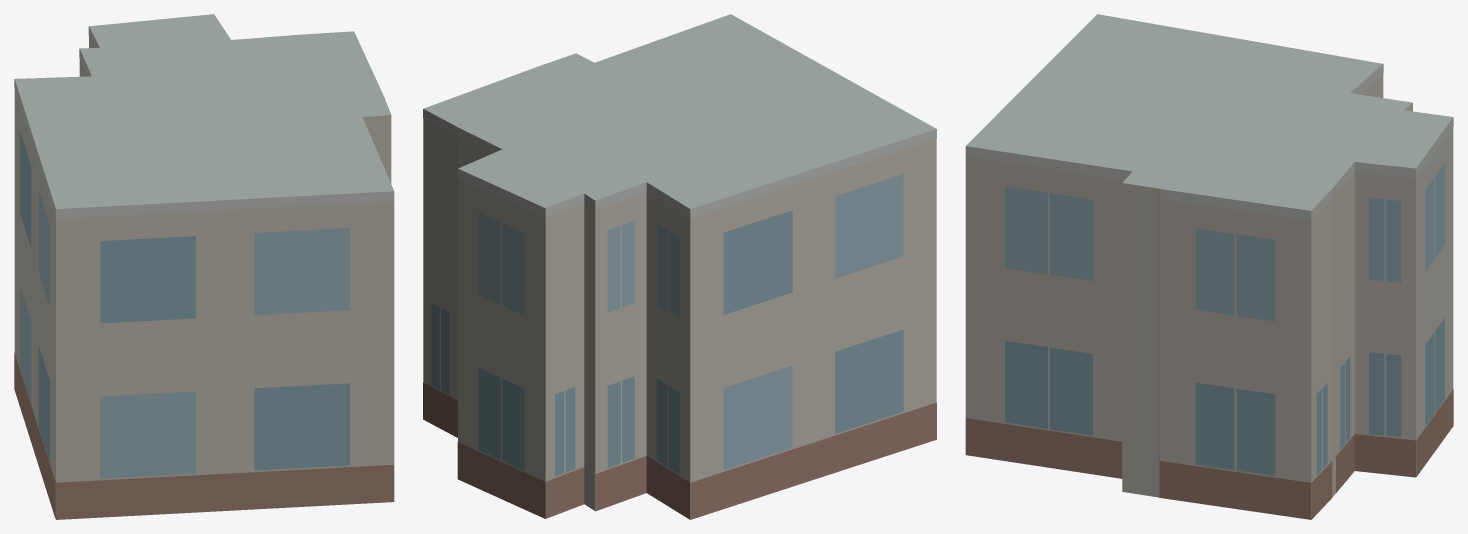
The model's file is survey-upis-33030437.glb.
The picture shows the model from 3 angles, left to right: view 1: azimuth 30°, elevation 25°; view 2: azimuth 150°, elevation 25°; view 3: azimuth 270°, elevation 25°; orthographic projection.
Visible parts, largest first — view 1: survey-upis-33030437.tmp; view 2: survey-upis-33030437.tmp; view 3: survey-upis-33030437.tmp.
Part boxes in pixels (box(x1,y1,x2,y2)): survey-upis-33030437.tmp: box(14, 14, 394, 519); survey-upis-33030437.tmp: box(423, 14, 936, 519); survey-upis-33030437.tmp: box(965, 14, 1453, 519).
Size of the model in its own units: 10.81 by 7.9 by 11.32.
